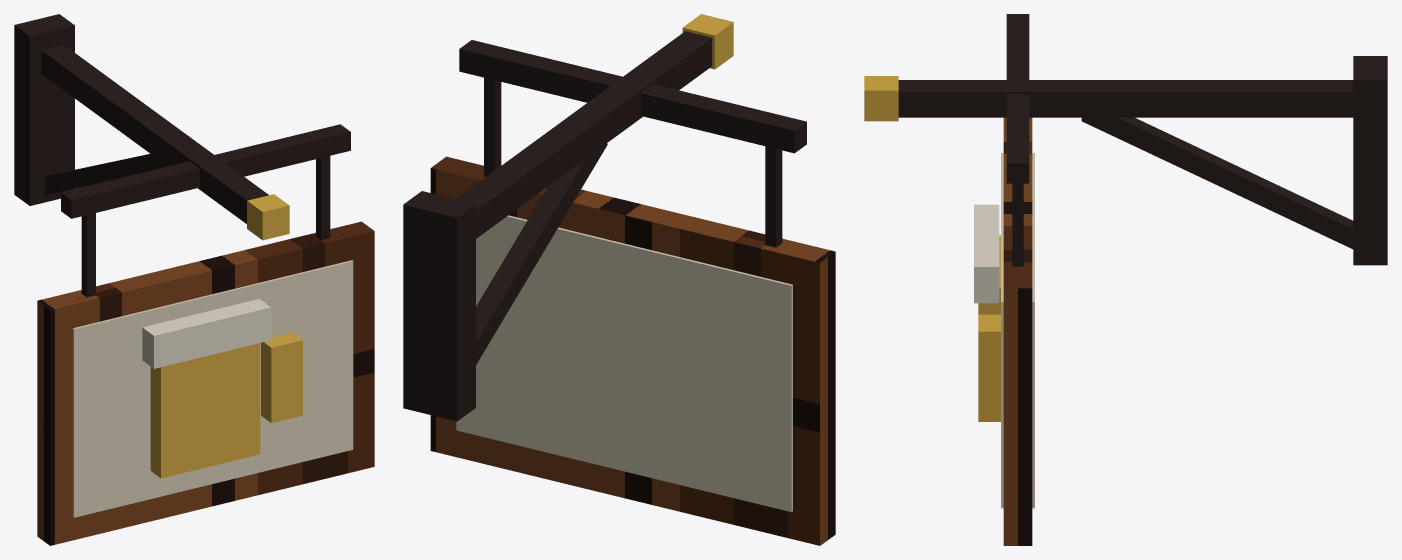
Rendered from hanging_sign_mug.glb.
The picture shows the model from 3 angles, left to right: view 1: azimuth 30°, elevation 25°; view 2: azimuth 150°, elevation 25°; view 3: azimuth 270°, elevation 25°; orthographic projection. The views are drawn at different scales.
Visible parts, largest first — view 1: hanging_sign_mug; view 2: hanging_sign_mug; view 3: hanging_sign_mug.
Boxes of the visible parts, bbox=[...] form: hanging_sign_mug: bbox=[14, 14, 374, 545]; hanging_sign_mug: bbox=[403, 14, 835, 545]; hanging_sign_mug: bbox=[864, 14, 1387, 545].
Size of the model in its own units: 0.72 by 0.76 by 0.92.
Materials: 2 (1 with a texture image).
